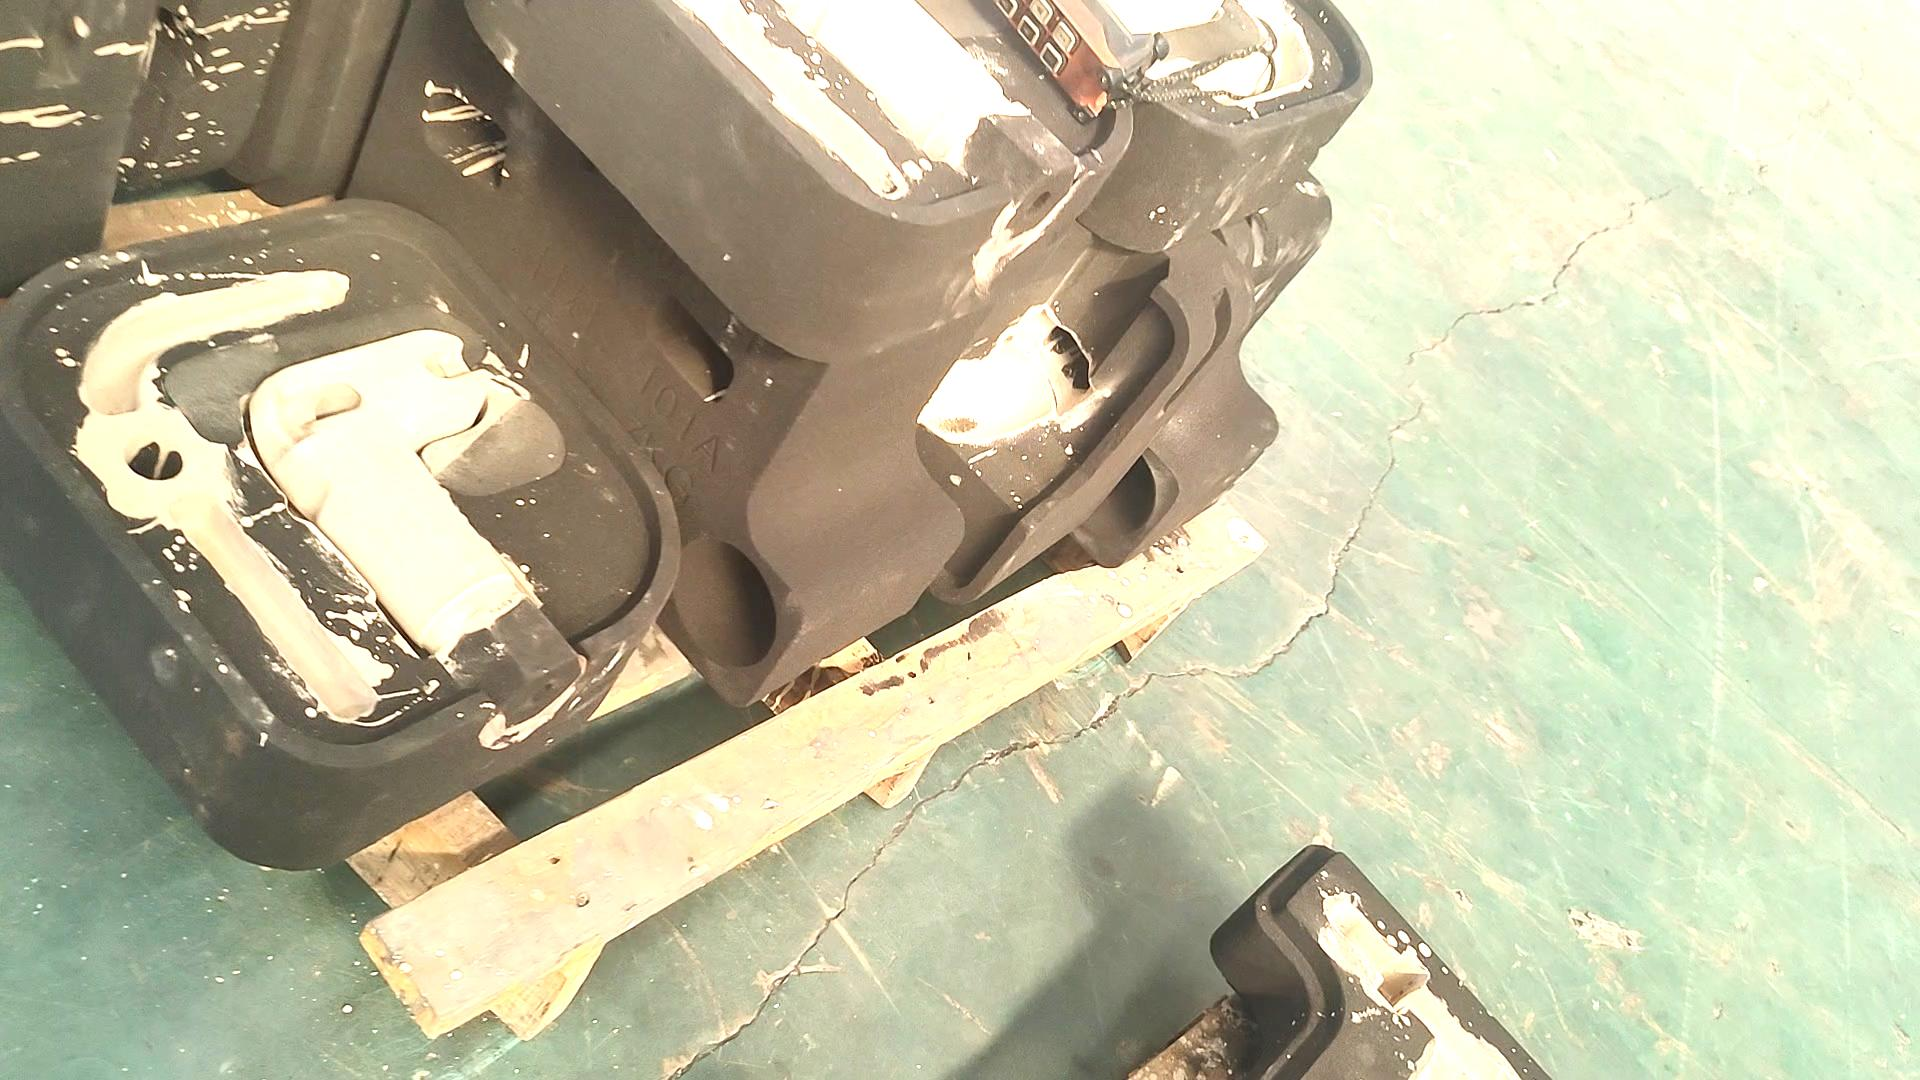pouring hole: (669, 537, 778, 670), (1073, 444, 1155, 535)
